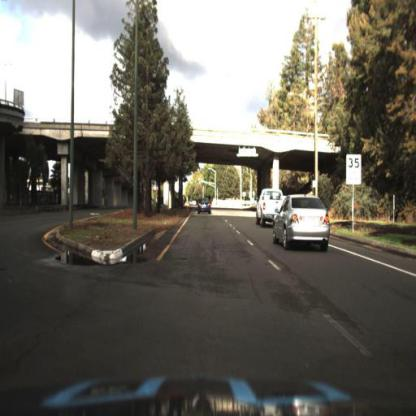car: (274, 194, 333, 256), (255, 186, 286, 230), (196, 196, 213, 219)
